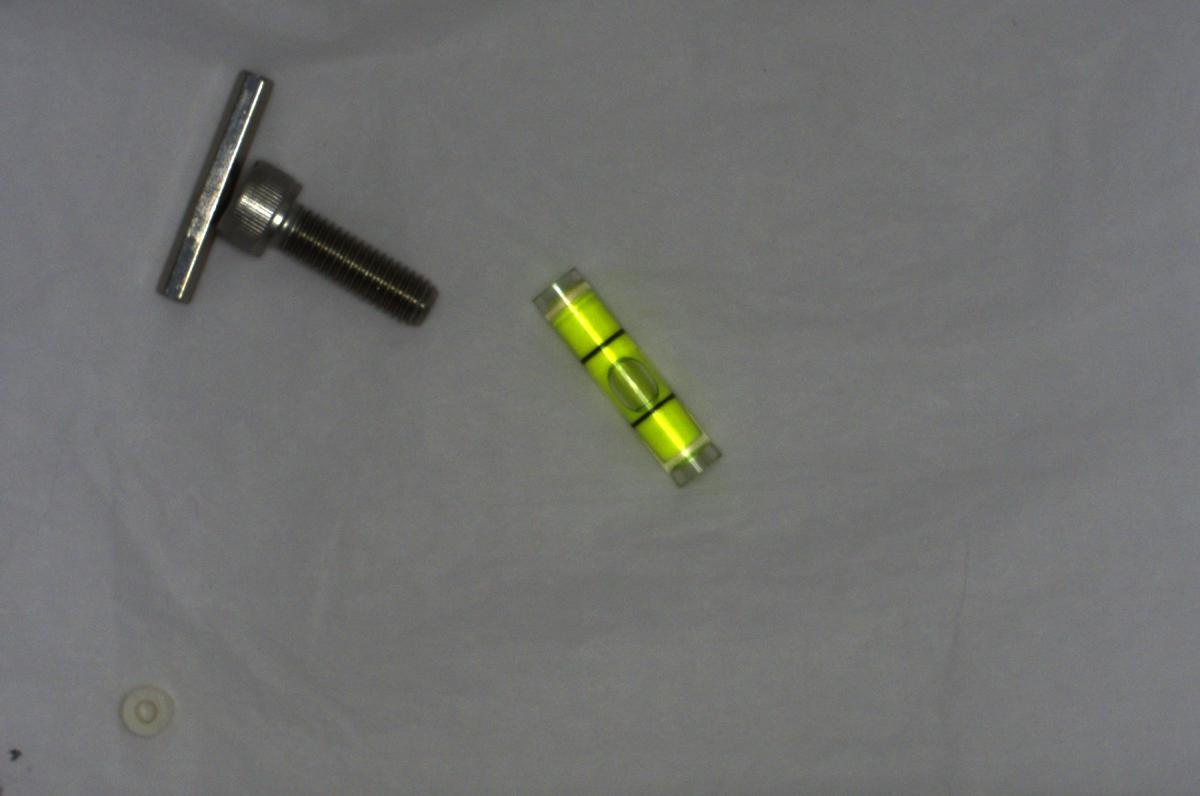Double hexagonal column: (130, 56, 295, 313)
Hexagon screw: (212, 158, 437, 326)
Horizontal bubble: (527, 263, 727, 492)
Plastic cushion pillar: (114, 678, 181, 741)
